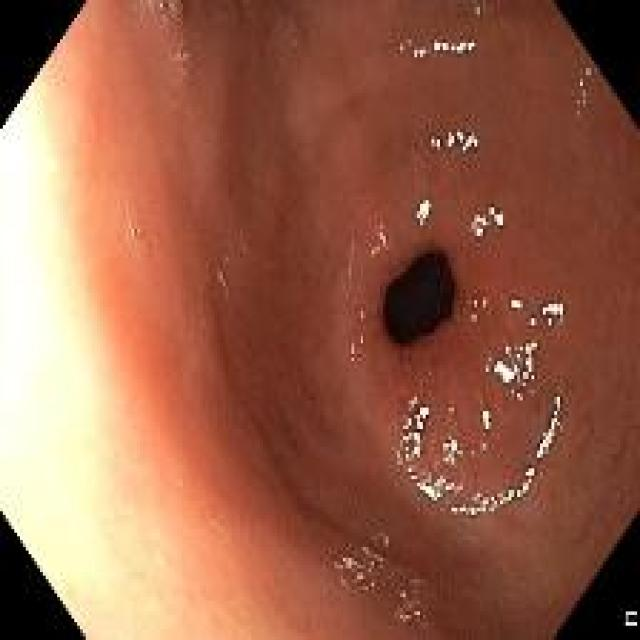bubbles: (573, 78, 586, 108), (173, 49, 192, 68), (393, 607, 411, 625), (359, 577, 375, 594), (475, 4, 494, 17), (366, 241, 381, 257), (126, 222, 141, 237), (410, 586, 419, 606), (579, 65, 593, 77), (166, 98, 177, 113), (365, 559, 376, 573), (399, 590, 410, 603), (162, 17, 172, 31)
contrast: (382, 249, 454, 346)
saturation: (0, 14, 105, 640), (104, 407, 274, 638), (106, 262, 172, 407)
specularity: (394, 400, 430, 464), (405, 465, 453, 501), (451, 490, 515, 516), (471, 205, 503, 237), (445, 127, 478, 154), (521, 341, 539, 387), (431, 38, 476, 55), (440, 438, 466, 465), (517, 464, 535, 500), (536, 430, 554, 459), (493, 360, 513, 386), (412, 201, 431, 225), (552, 392, 562, 427), (541, 301, 562, 317), (480, 409, 492, 431), (339, 553, 351, 567), (430, 135, 441, 149), (509, 298, 524, 308), (514, 345, 523, 361), (413, 46, 426, 57), (501, 341, 512, 354), (513, 362, 521, 375), (516, 390, 524, 402), (469, 312, 478, 322), (447, 406, 455, 416), (528, 317, 536, 326), (546, 317, 554, 326), (404, 612, 411, 622), (413, 611, 423, 618), (480, 297, 487, 305), (472, 299, 478, 307)
